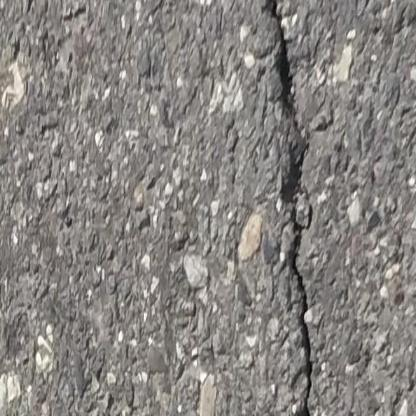Cracks: (261, 0, 319, 416)
